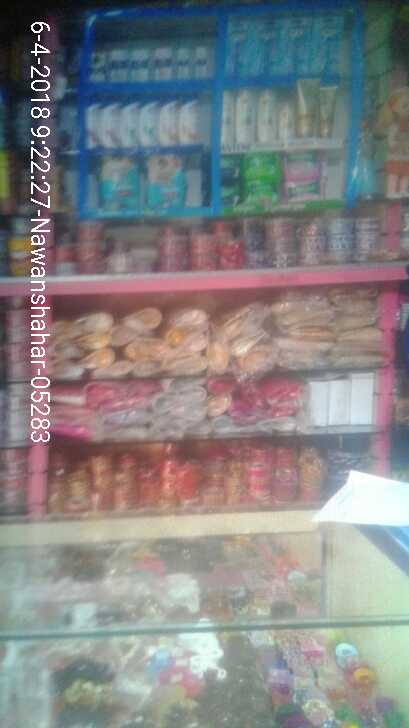venus: (309, 15, 346, 72), (252, 19, 281, 73), (281, 19, 309, 72), (229, 20, 252, 73)
